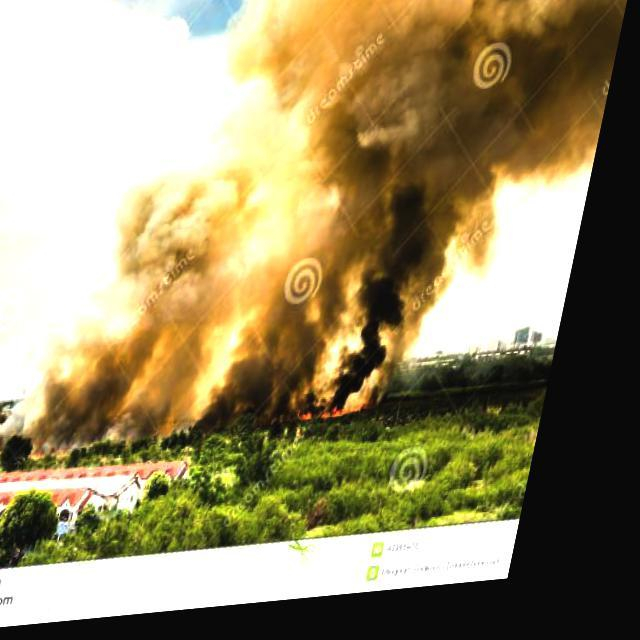Fire: (309, 397, 390, 436)
